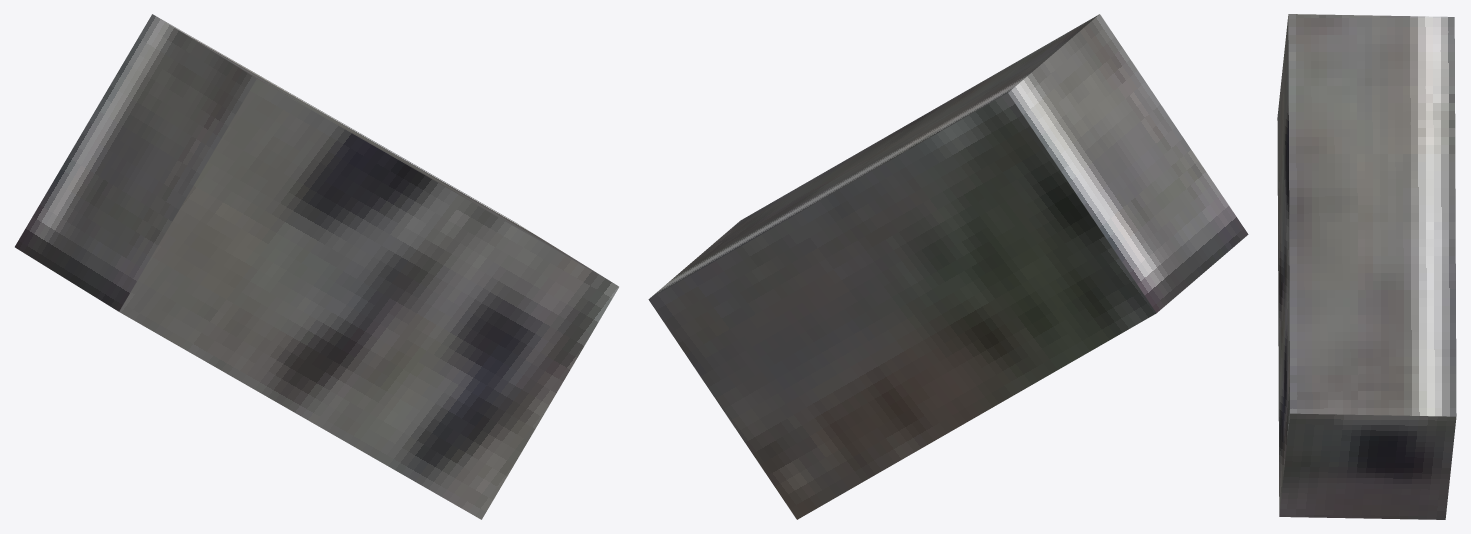
3 views of the same model, side by side, from view 1: azimuth 30°, elevation 25°; view 2: azimuth 150°, elevation 25°; view 3: azimuth 270°, elevation 25° (orthographic). The views are drawn at different scales.
Parts seen in each view (by area): view 1: BAG_0599100010035896; view 2: BAG_0599100010035896; view 3: BAG_0599100010035896.
Part boxes in pixels (<box>): BAG_0599100010035896: <box>15,14,618,519</box>; BAG_0599100010035896: <box>648,14,1248,519</box>; BAG_0599100010035896: <box>1277,14,1456,519</box>.
Bounding box in the file's own units: 5.51 × 5.1 × 1.98.
2 materials, 1 textured.
